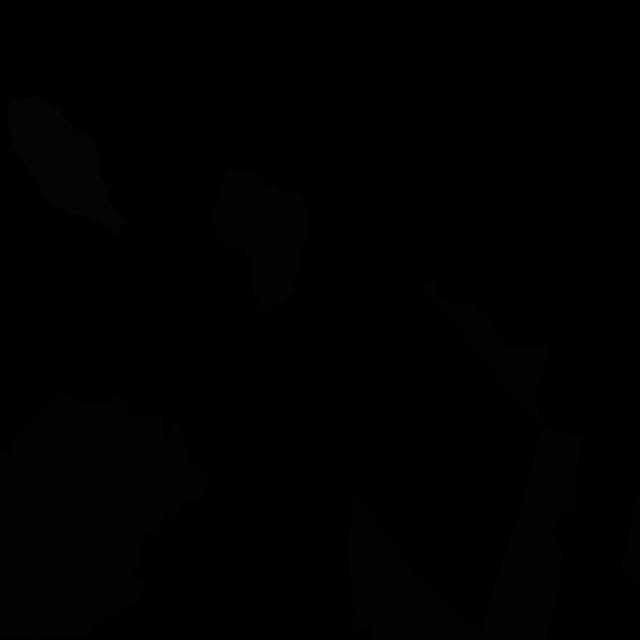cardboard: (0, 391, 209, 638), (348, 428, 584, 640), (421, 281, 549, 424), (620, 535, 640, 586), (629, 477, 640, 555)
metal: (211, 170, 309, 311)
soft_plastic: (8, 96, 129, 234)
